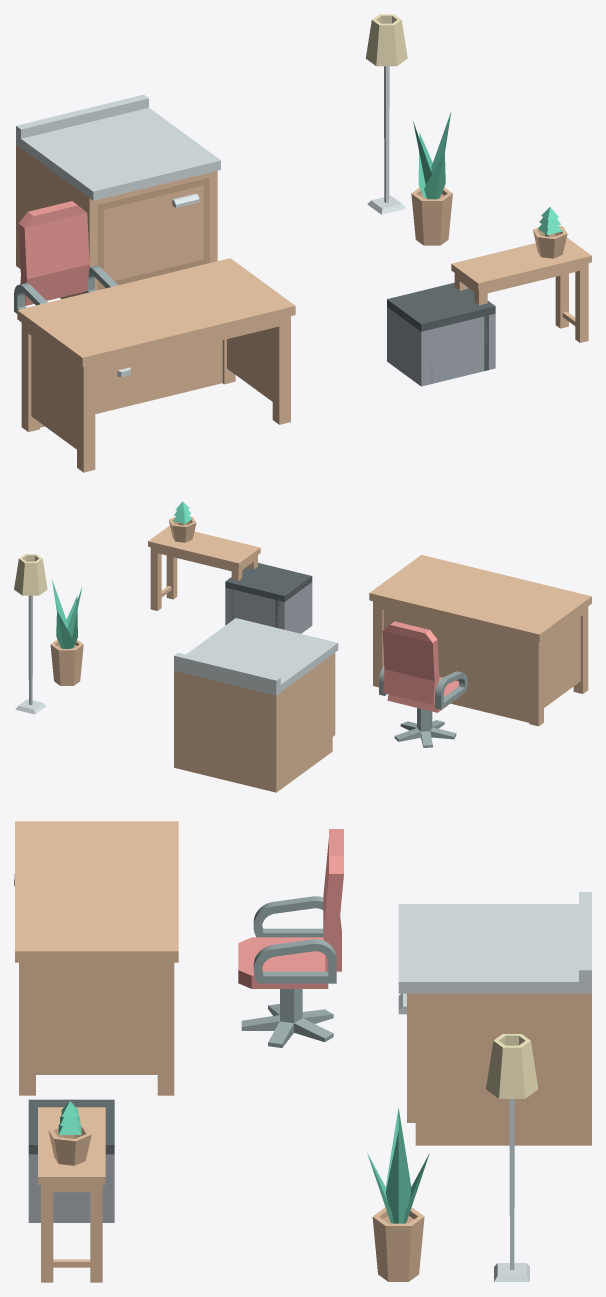
The picture shows the model from 3 angles, top to bottom: view 1: azimuth 30°, elevation 25°; view 2: azimuth 150°, elevation 25°; view 3: azimuth 270°, elevation 25°; orthographic projection. The views are drawn at different scales.
Visible parts, largest first — view 1: desk_blue__desk(Clone), cabinet_blue__kitchenCabinet(Clone), cabinet_blue__door, deskchair_black__chair, sidetable_brown__sideTable(Clone), crate_red__crate_red shell, lamp_white__lampRoundFloor(Clone), crate_red__crate_red lid, plant_pink__pottedPlant(Clone), plant_pink__plant, flowerpot_green__plantSmall1(Clone), desk_blue__drawer; view 2: desk_blue__desk(Clone), cabinet_blue__kitchenCabinet(Clone), deskchair_black__chair, sidetable_brown__sideTable(Clone), crate_red__crate_red shell, crate_red__crate_red lid, lamp_white__lampRoundFloor(Clone), plant_pink__pottedPlant(Clone), deskchair_black__chairDesk(Clone), plant_pink__plant, flowerpot_green__plantSmall1(Clone); view 3: cabinet_blue__kitchenCabinet(Clone), desk_blue__desk(Clone), deskchair_black__chair, sidetable_brown__sideTable(Clone), lamp_white__lampRoundFloor(Clone), plant_pink__pottedPlant(Clone), crate_red__crate_red shell, deskchair_black__chairDesk(Clone), plant_pink__plant, flowerpot_green__plantSmall1(Clone), crate_red__crate_red lid.
Boxes of the visible parts, left/top/right/bottom form: desk_blue__desk(Clone): left=17, top=258, right=295, bottom=472; cabinet_blue__kitchenCabinet(Clone): left=16, top=94, right=220, bottom=299; cabinet_blue__door: left=97, top=177, right=209, bottom=290; deskchair_black__chair: left=14, top=201, right=117, bottom=313; sidetable_brown__sideTable(Clone): left=451, top=237, right=591, bottom=342; crate_red__crate_red shell: left=387, top=307, right=495, bottom=386; lamp_white__lampRoundFloor(Clone): left=365, top=14, right=407, bottom=214; crate_red__crate_red lid: left=387, top=284, right=495, bottom=331; plant_pink__pottedPlant(Clone): left=411, top=187, right=452, bottom=245; plant_pink__plant: left=413, top=111, right=451, bottom=199; flowerpot_green__plantSmall1(Clone): left=533, top=207, right=567, bottom=258; desk_blue__drawer: left=95, top=357, right=152, bottom=386; desk_blue__desk(Clone): left=369, top=555, right=591, bottom=726; cabinet_blue__kitchenCabinet(Clone): left=174, top=618, right=338, bottom=792; deskchair_black__chair: left=379, top=621, right=467, bottom=712; sidetable_brown__sideTable(Clone): left=148, top=525, right=260, bottom=610; crate_red__crate_red shell: left=225, top=582, right=312, bottom=633; crate_red__crate_red lid: left=225, top=563, right=312, bottom=601; lamp_white__lampRoundFloor(Clone): left=14, top=554, right=47, bottom=714; plant_pink__pottedPlant(Clone): left=50, top=639, right=83, bottom=685; deskchair_black__chairDesk(Clone): left=394, top=708, right=456, bottom=747; plant_pink__plant: left=51, top=578, right=81, bottom=648; flowerpot_green__plantSmall1(Clone): left=169, top=501, right=196, bottom=542; cabinet_blue__kitchenCabinet(Clone): left=398, top=892, right=591, bottom=1145; desk_blue__desk(Clone): left=15, top=821, right=178, bottom=1095; deskchair_black__chair: left=238, top=829, right=343, bottom=988; sidetable_brown__sideTable(Clone): left=38, top=1107, right=105, bottom=1282; lamp_white__lampRoundFloor(Clone): left=486, top=1034, right=538, bottom=1281; plant_pink__pottedPlant(Clone): left=372, top=1207, right=424, bottom=1281; crate_red__crate_red shell: left=28, top=1154, right=114, bottom=1222; deskchair_black__chairDesk(Clone): left=241, top=989, right=333, bottom=1047; plant_pink__plant: left=367, top=1107, right=429, bottom=1223; flowerpot_green__plantSmall1(Clone): left=48, top=1101, right=91, bottom=1165; crate_red__crate_red lid: left=28, top=1099, right=114, bottom=1154.
Bounding box in the file's own units: 3.51 × 1.2 × 2.69.
